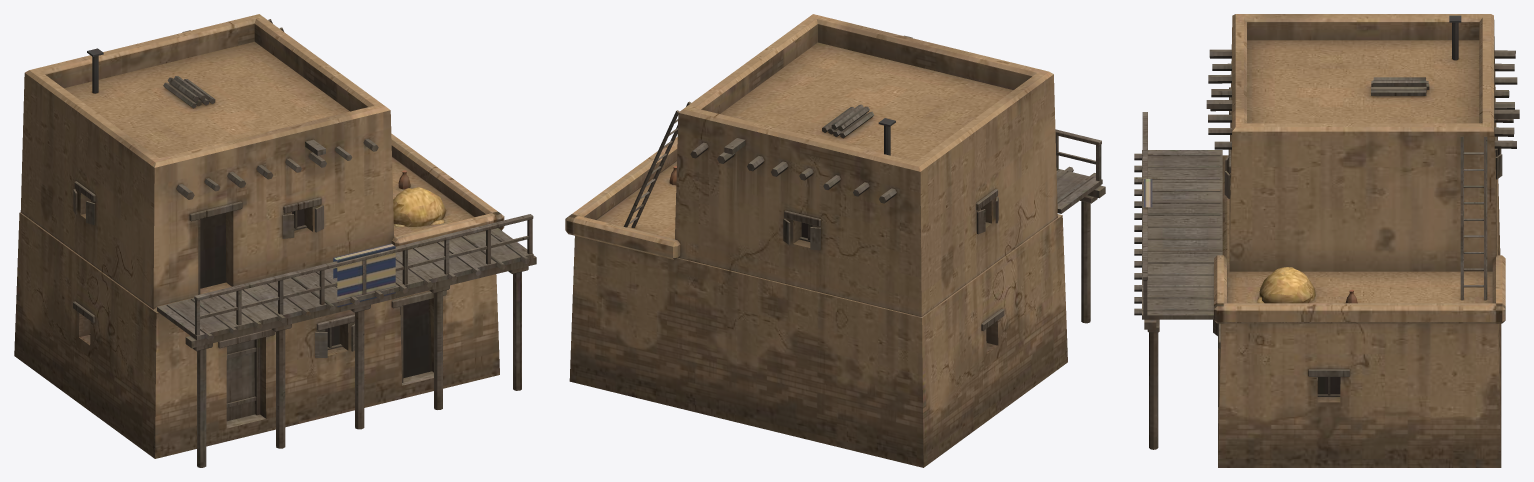
The picture shows the model from 3 angles, left to right: view 1: azimuth 30°, elevation 25°; view 2: azimuth 150°, elevation 25°; view 3: azimuth 270°, elevation 25°; orthographic projection. The views are drawn at different scales.
Parts seen in each view (by area): view 1: vh_h50f; view 2: vh_h50f; view 3: vh_h50f.
Boxes of the visible parts, bbox=[...] form: vh_h50f: bbox=[14, 14, 536, 467]; vh_h50f: bbox=[565, 14, 1105, 467]; vh_h50f: bbox=[1134, 14, 1519, 467].
Size of the model in its own units: 8.5 by 7.14 by 8.08.
Materials: 1 (1 with a texture image).
